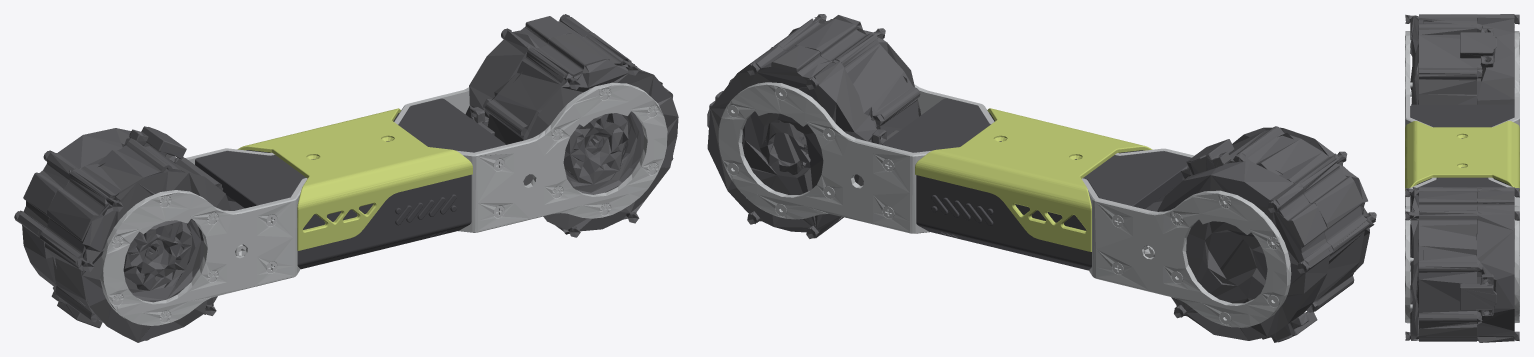
The picture shows the model from 3 angles, left to right: view 1: azimuth 30°, elevation 25°; view 2: azimuth 150°, elevation 25°; view 3: azimuth 270°, elevation 25°; orthographic projection. The views are drawn at different scales.
Visible parts, largest first — view 1: motor_2_3, cnc2, pla2_black, pla2_green; view 2: motor_2_3, cnc2, pla2_black, pla2_green; view 3: motor_2_3, pla2_green, pla2_black, cnc2.
Part boxes in pixels (left/top/right/bottom): motor_2_3: left=14, top=14, right=678, bottom=342; cnc2: left=100, top=82, right=667, bottom=325; pla2_black: left=195, top=98, right=505, bottom=269; pla2_green: left=237, top=108, right=472, bottom=250; motor_2_3: left=707, top=14, right=1376, bottom=342; cnc2: left=718, top=82, right=1291, bottom=327; pla2_black: left=881, top=98, right=1190, bottom=270; pla2_green: left=915, top=108, right=1152, bottom=251; motor_2_3: left=1405, top=14, right=1519, bottom=342; pla2_green: left=1405, top=121, right=1519, bottom=190; pla2_black: left=1410, top=104, right=1514, bottom=265; cnc2: left=1405, top=31, right=1519, bottom=323.
Bounding box in the file's own units: 0.327 × 0.0886 × 0.0655.
